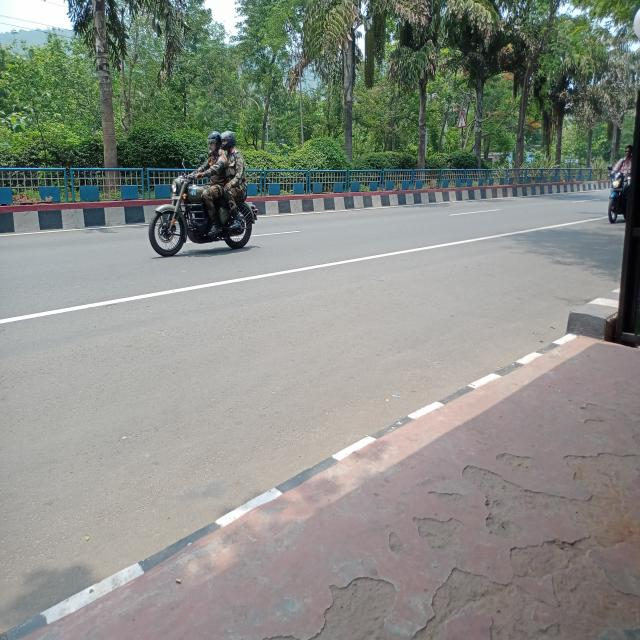bike: (141, 174, 269, 252)
